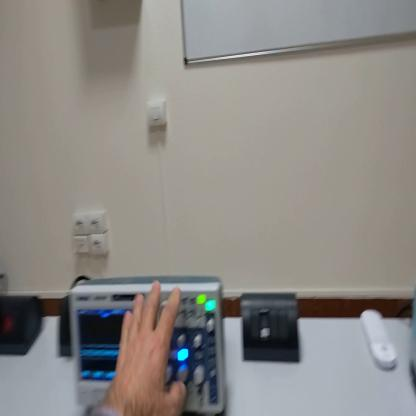hand: (109, 281, 185, 412)
oscilloscope: (64, 278, 231, 415)
socket: (2, 296, 46, 359), (59, 297, 74, 360)
welder station: (407, 288, 416, 390)
